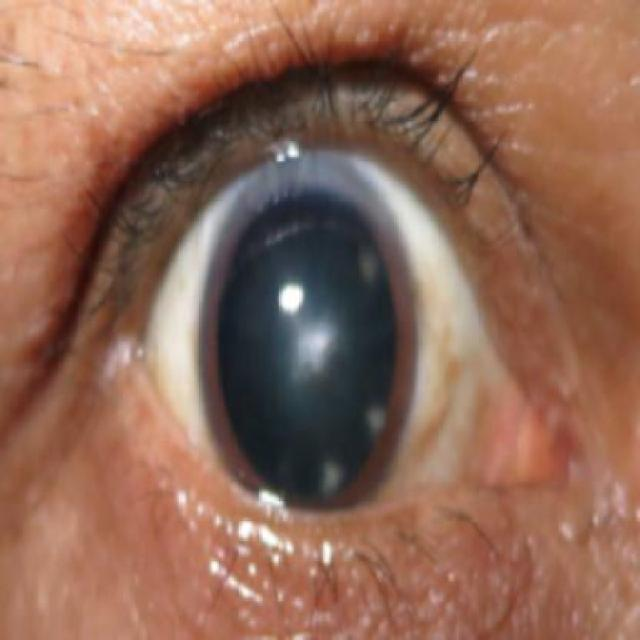Cataract: (197, 156, 425, 550)
